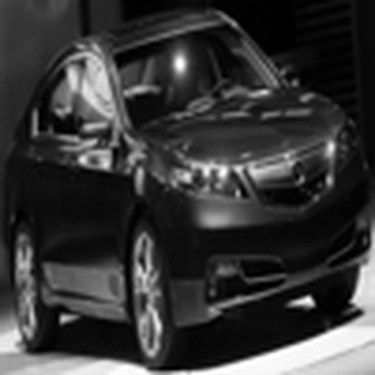car: (4, 5, 373, 373)
